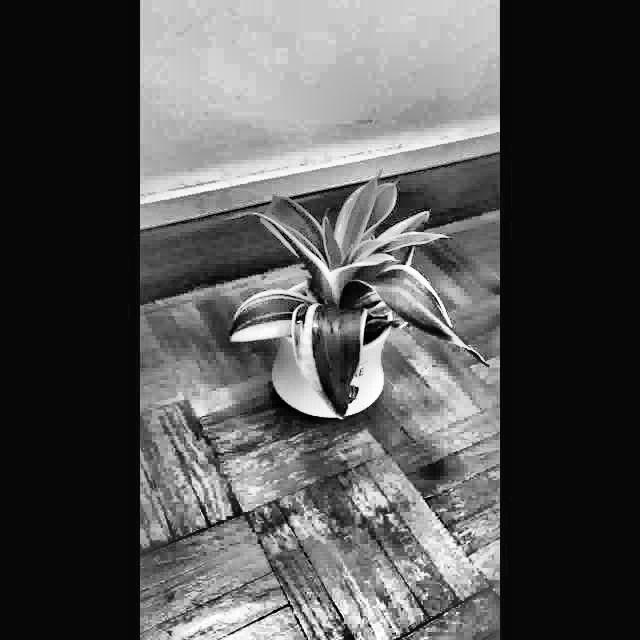plants: (222, 160, 499, 436)
